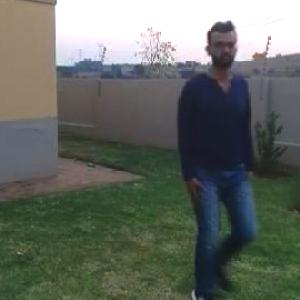follow: (174, 17, 255, 299)
